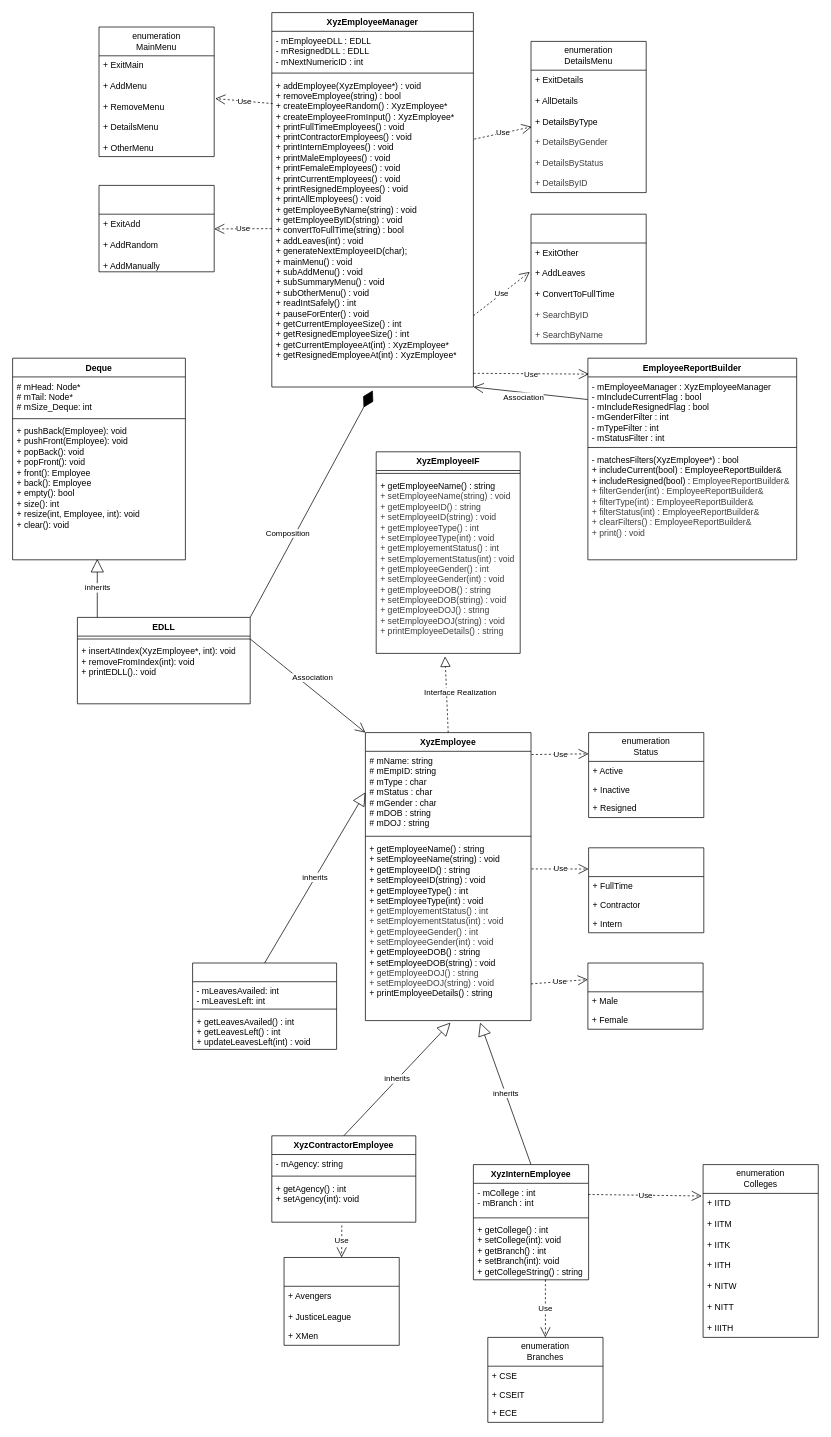
The diagram is 831 pixels wide and 1437 high, and some of its shapes have lost their labels. Here are the shapes that lost their labels. From the top down, the box of each, then its label:
(98, 185, 214, 272): enumeration AddMenu
(530, 213, 646, 344): enumeration OtherMenu
(588, 847, 704, 933): enumeration Type
(192, 962, 337, 1049): XyzFullTimeEmployee
(587, 962, 703, 1029): enumeration Gender
(283, 1257, 399, 1345): enumeration Agencies
